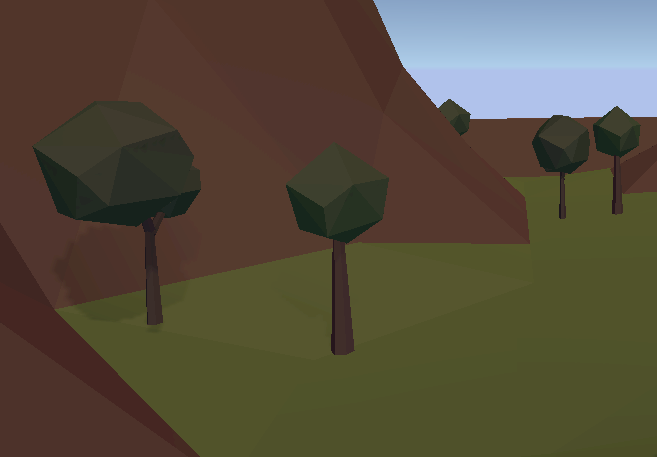tree: (32, 94, 202, 327), (284, 140, 392, 359), (531, 114, 592, 226), (592, 104, 642, 218), (433, 97, 475, 137)
